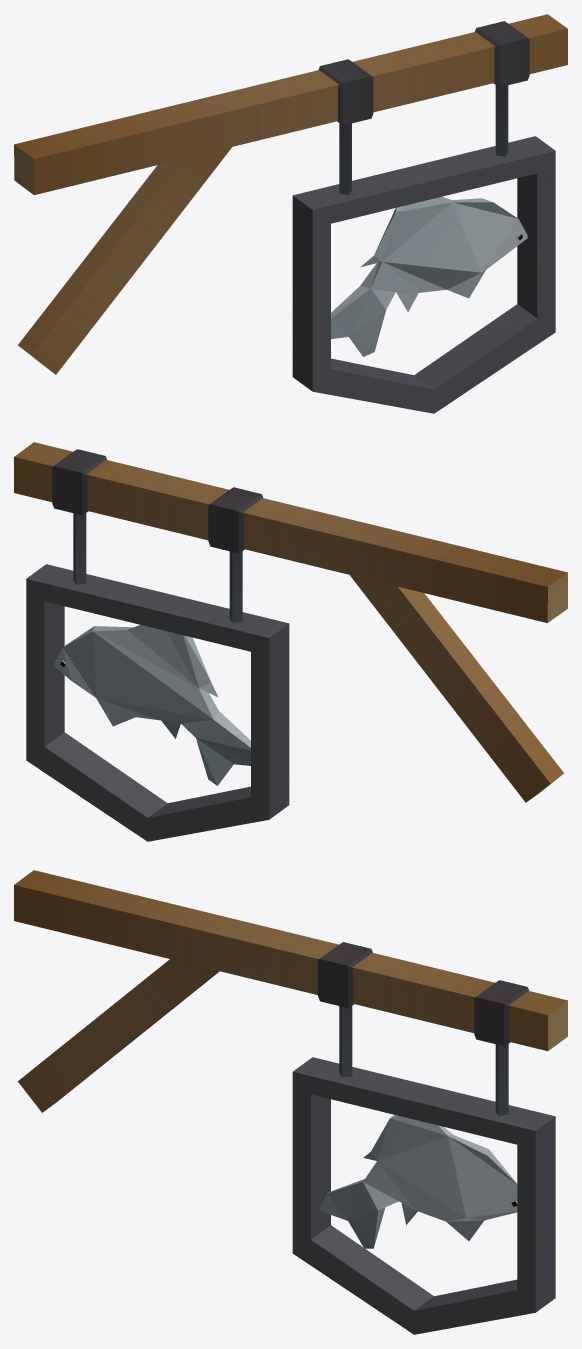
File: SignBoard_1_LOD1.fbx
The picture shows the model from 3 angles, top to bottom: view 1: azimuth 30°, elevation 25°; view 2: azimuth 150°, elevation 25°; view 3: azimuth 330°, elevation 25°; orthographic projection.
Parts seen in each view (by area): view 1: polySurface10636; view 2: polySurface10636; view 3: polySurface10636.
Part boxes in pixels (left/top/right/bottom): polySurface10636: left=14, top=14, right=567, bottom=413; polySurface10636: left=14, top=442, right=567, bottom=841; polySurface10636: left=14, top=870, right=567, bottom=1334.
Bounding box in the file's own units: 308 × 195 × 23.29.
